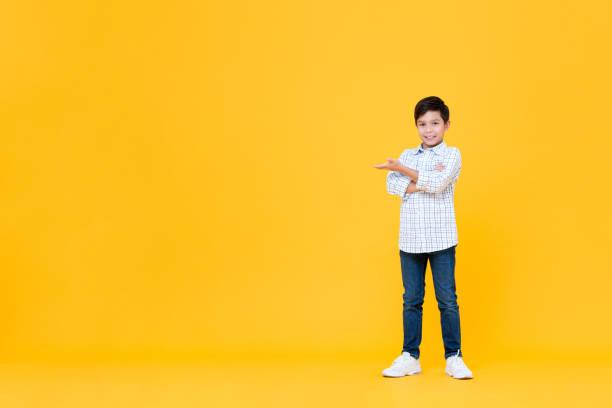Human: (374, 82, 500, 390)
